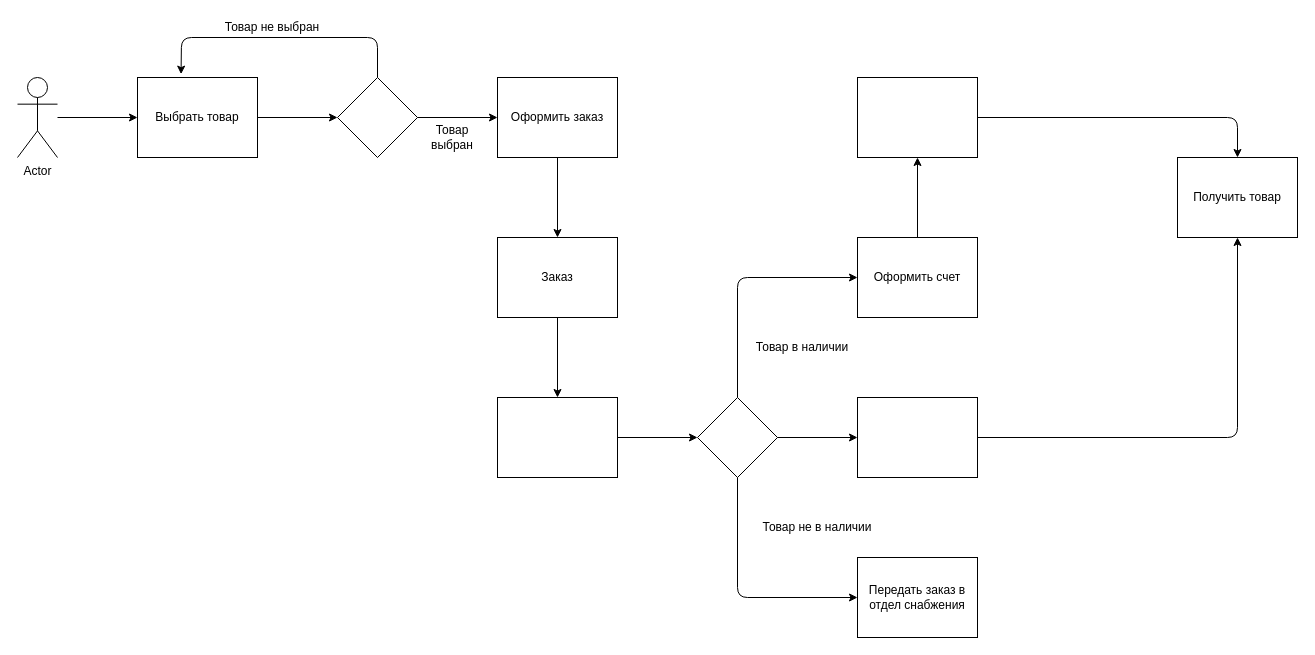
Some shapes in this 1315 by 655 pixel diagram are drawn without their labels. Here are the shapes that lost their labels. From the top down, the box of each, then its label:
(856, 76, 978, 158): Оплатить счет
(496, 396, 618, 478): Проверка наличия товара
(856, 396, 978, 478): Организовать доставку товара
